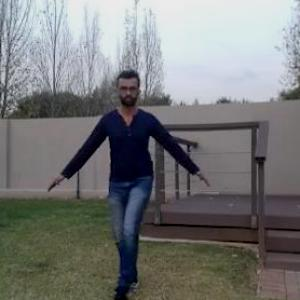land: (65, 69, 196, 296)
